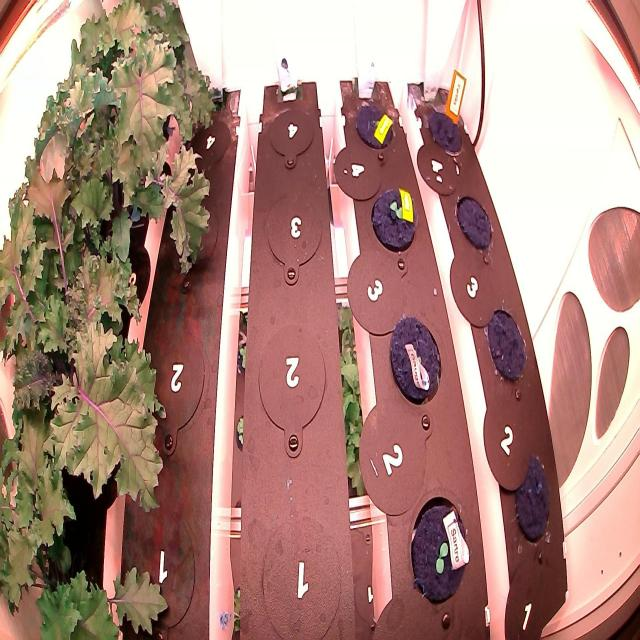empty_pod: (254, 508, 346, 639), (248, 315, 331, 458), (135, 321, 210, 464), (125, 502, 198, 636), (262, 187, 328, 286), (157, 185, 223, 283), (264, 103, 317, 171), (186, 109, 231, 172)
germination: (398, 484, 475, 612), (368, 182, 418, 256)
pod: (385, 315, 453, 414), (505, 448, 556, 556), (479, 296, 533, 392), (452, 185, 497, 258), (349, 97, 396, 158), (427, 101, 468, 162)
